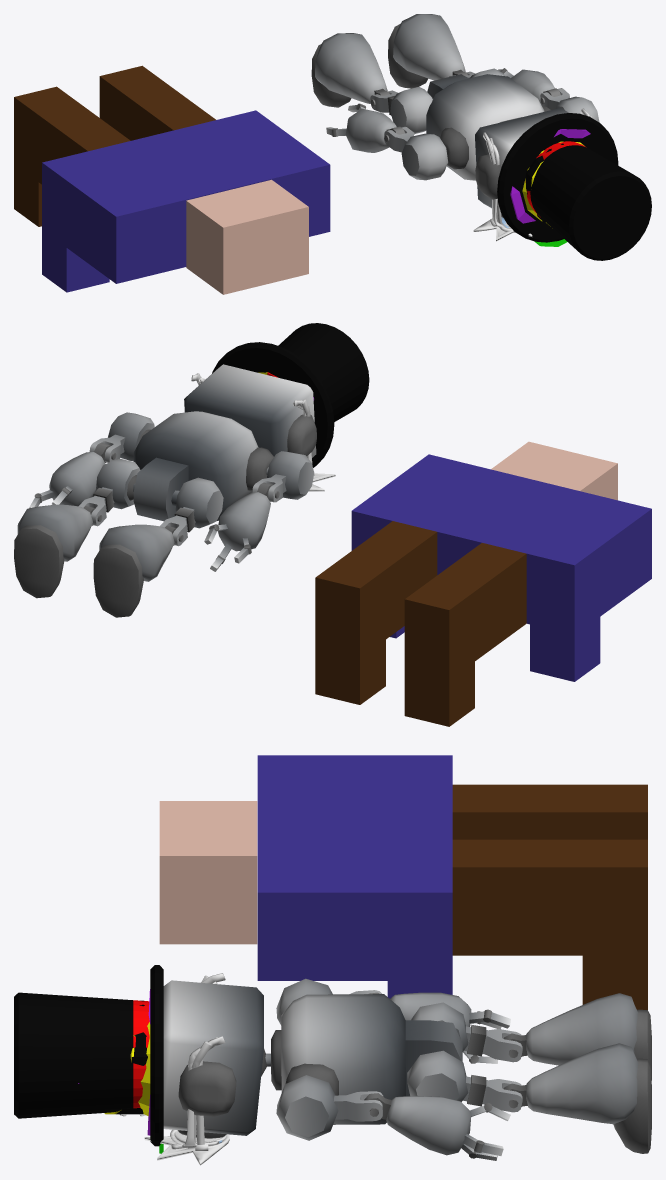
File: hoeden.fbx
3 views of the same model, one above another, from view 1: azimuth 30°, elevation 25°; view 2: azimuth 150°, elevation 25°; view 3: azimuth 270°, elevation 25° (orthographic). The views are drawn at different scales.
Parts seen in each view (by area): view 1: Torso.001, GentlemanHat.001, Legs.001, R1_Arm.R, Head.001, R1_Leg.R, R1_Head, WizardHat.001, 8; view 2: Torso.001, Legs.001, R1_Arm.R, R1_Leg.R, GentlemanHat.001, R1_Head, Head.001; view 3: Torso.001, Legs.001, R1_Arm.R, R1_Leg.R, GentlemanHat.001, Head.001, R1_Head, 8, WizardHat.001, Pirate Hat.001.
Part boxes in pixels (<box>): Torso.001: <box>42,110,330,292</box>; GentlemanHat.001: <box>497,113,651,260</box>; Legs.001: <box>14,65,215,226</box>; R1_Arm.R: <box>326,68,599,180</box>; Head.001: <box>186,179,308,294</box>; R1_Leg.R: <box>311,14,505,133</box>; R1_Head: <box>475,108,568,217</box>; WizardHat.001: <box>510,129,590,223</box>; 8: <box>473,108,589,241</box>; Torso.001: <box>351,454,651,681</box>; Legs.001: <box>315,521,526,726</box>; R1_Arm.R: <box>29,411,314,571</box>; R1_Leg.R: <box>14,458,223,617</box>; GentlemanHat.001: <box>212,323,369,467</box>; R1_Head: <box>184,364,316,457</box>; Head.001: <box>491,441,617,500</box>; Torso.001: <box>257,755,452,998</box>; Legs.001: <box>452,784,647,1009</box>; R1_Arm.R: <box>265,978,510,1160</box>; R1_Leg.R: <box>407,993,651,1153</box>; GentlemanHat.001: <box>14,965,163,1146</box>; Head.001: <box>159,801,257,944</box>; R1_Head: <box>163,980,267,1138</box>; 8: <box>144,973,229,1165</box>; WizardHat.001: <box>78,989,150,1135</box>; Pirate Hat.001: <box>104,1000,147,1116</box>.
Size of the model in its own units: 2.6 by 0.7006 by 2.15.
